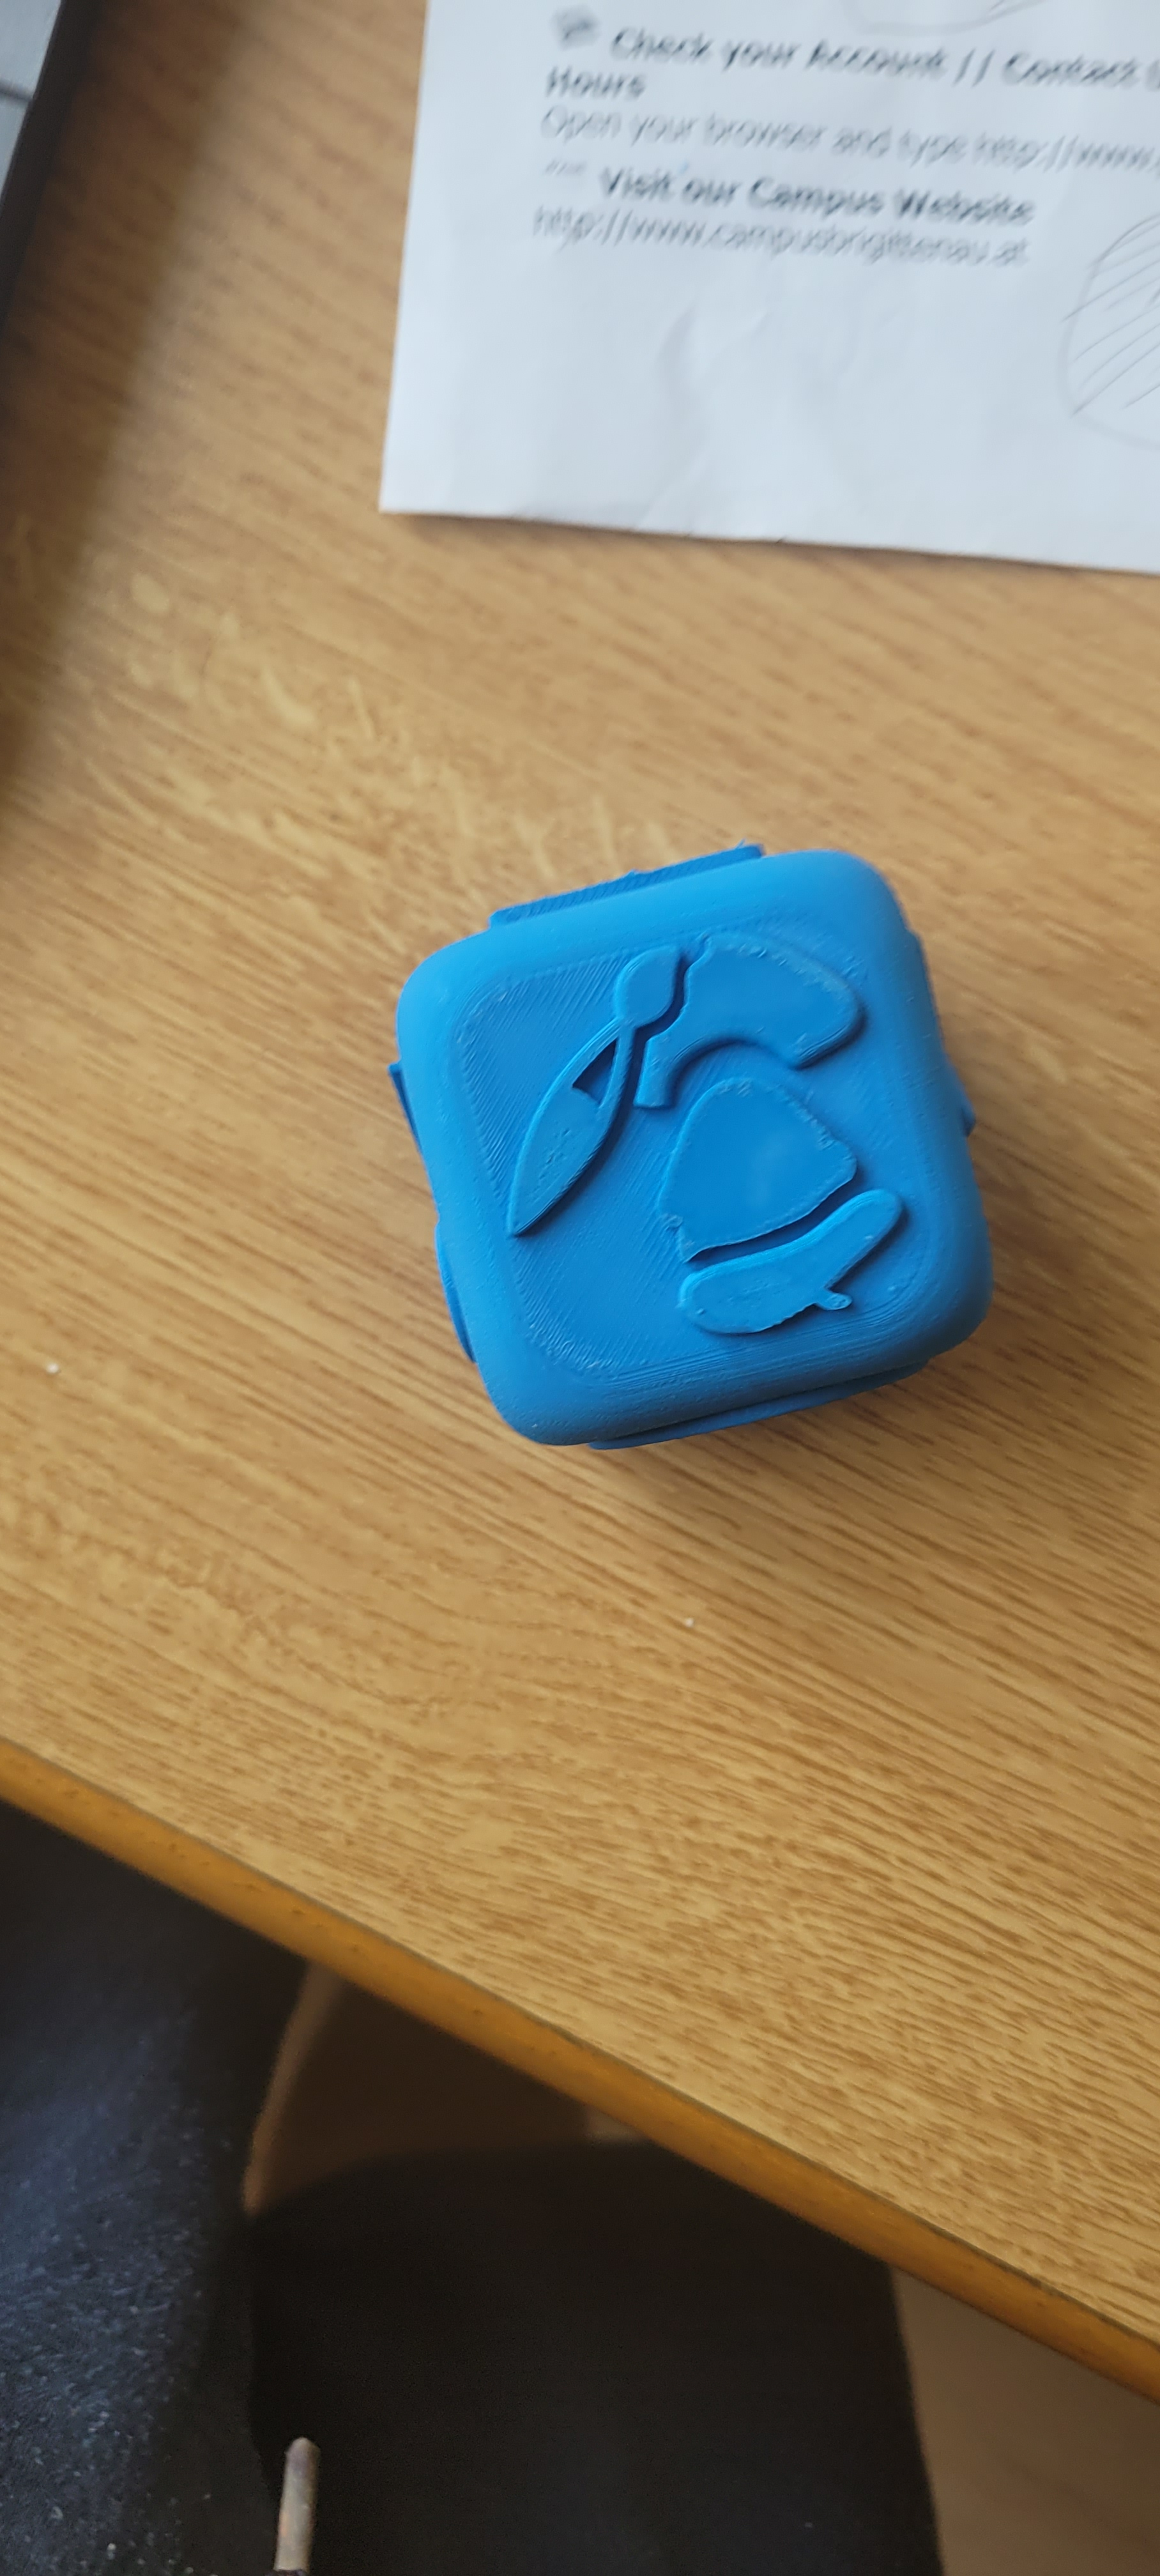Artist_Info: (340, 923, 1010, 1387)
